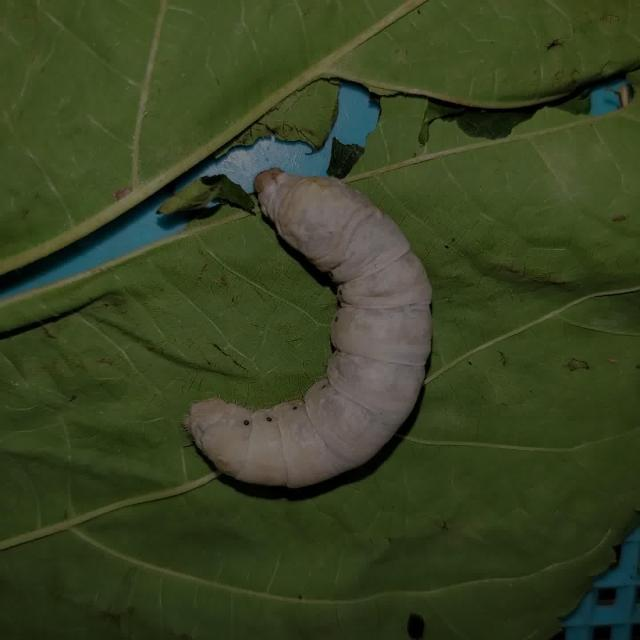Grasserie: (175, 132, 458, 534)
